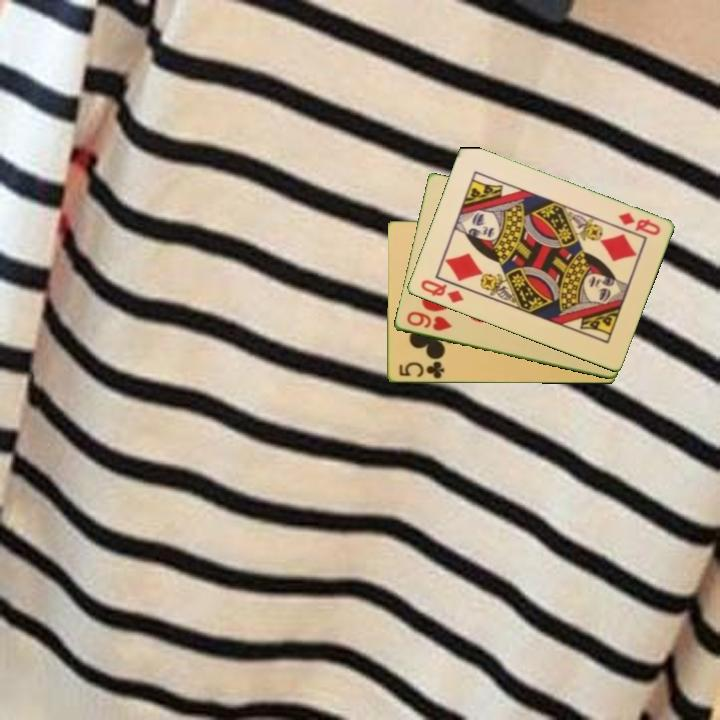5c: (396, 358, 447, 381)
9h: (403, 308, 455, 334)
Qd: (417, 276, 467, 306), (614, 209, 663, 239)
